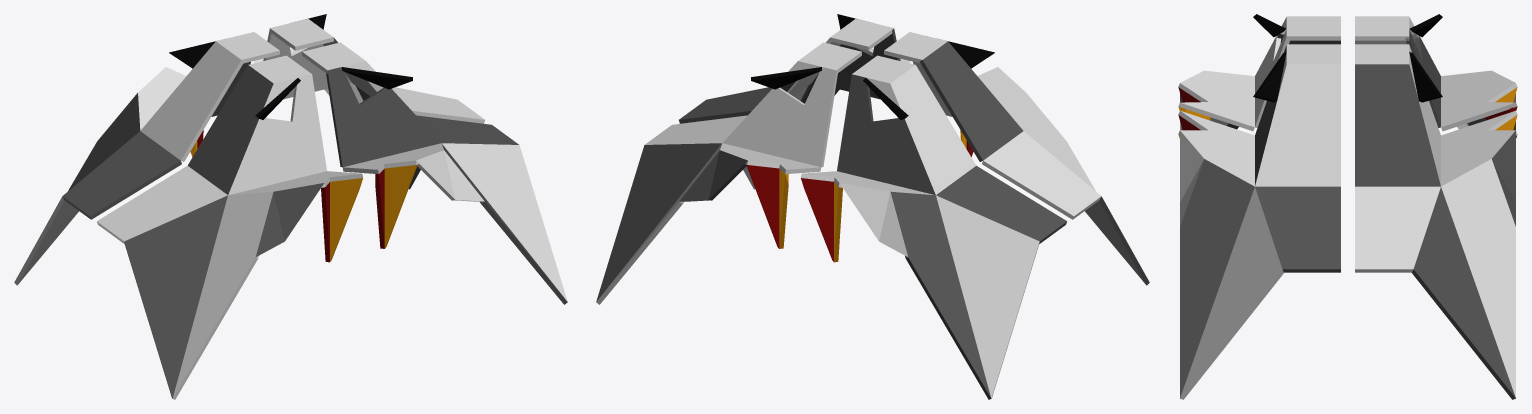
The picture shows the model from 3 angles, left to right: view 1: azimuth 30°, elevation 25°; view 2: azimuth 150°, elevation 25°; view 3: azimuth 270°, elevation 25°; orthographic projection. The views are drawn at different scales.
Visible parts, largest first — view 1: Group2, Group11, Group16, Group24, Group5, Group45, Group3, Group27, Group1, Group50, Group17, Group40 (+20 smaller); view 2: Group52, Group50, Group38, Group31, Group47, Group3, Group45, Group1, Group27, Group11, Group40, Group17 (+20 smaller); view 3: Group22, Group33, Group14, Group39, Group16, Group38, Group17, Group40, Group8, Group48, Group25, Group30 (+16 smaller).
Part boxes in pixels (<box>): Group2: <box>124,195,227,398</box>; Group11: <box>172,191,273,399</box>; Group16: <box>442,143,567,301</box>; Group24: <box>326,67,441,167</box>; Group5: <box>228,74,326,195</box>; Group45: <box>140,41,244,161</box>; Group3: <box>188,65,273,194</box>; Group27: <box>62,131,181,219</box>; Group1: <box>97,165,227,243</box>; Group50: <box>68,93,140,190</box>; Group17: <box>416,115,518,144</box>; Group40: <box>392,87,484,123</box>; Group52: <box>936,195,1039,398</box>; Group50: <box>890,191,991,399</box>; Group38: <box>596,143,721,301</box>; Group31: <box>722,67,837,167</box>; Group47: <box>837,74,935,195</box>; Group3: <box>919,41,1023,161</box>; Group45: <box>890,65,975,194</box>; Group1: <box>982,131,1101,219</box>; Group27: <box>936,165,1066,243</box>; Group11: <box>1023,93,1095,190</box>; Group40: <box>645,115,747,144</box>; Group17: <box>679,87,771,123</box>; Group22: <box>1255,64,1340,186</box>; Group33: <box>1355,64,1440,186</box>; Group14: <box>1180,159,1254,398</box>; Group39: <box>1441,159,1515,398</box>; Group16: <box>1180,187,1283,399</box>; Group38: <box>1412,187,1515,399</box>; Group17: <box>1255,186,1340,272</box>; Group40: <box>1355,186,1440,272</box>; Group8: <box>1178,70,1254,131</box>; Group48: <box>1441,70,1517,131</box>; Group25: <box>1178,110,1254,186</box>; Group30: <box>1441,110,1517,186</box>.
Bounding box in the file's own units: 5.09 × 3 × 3.57.
